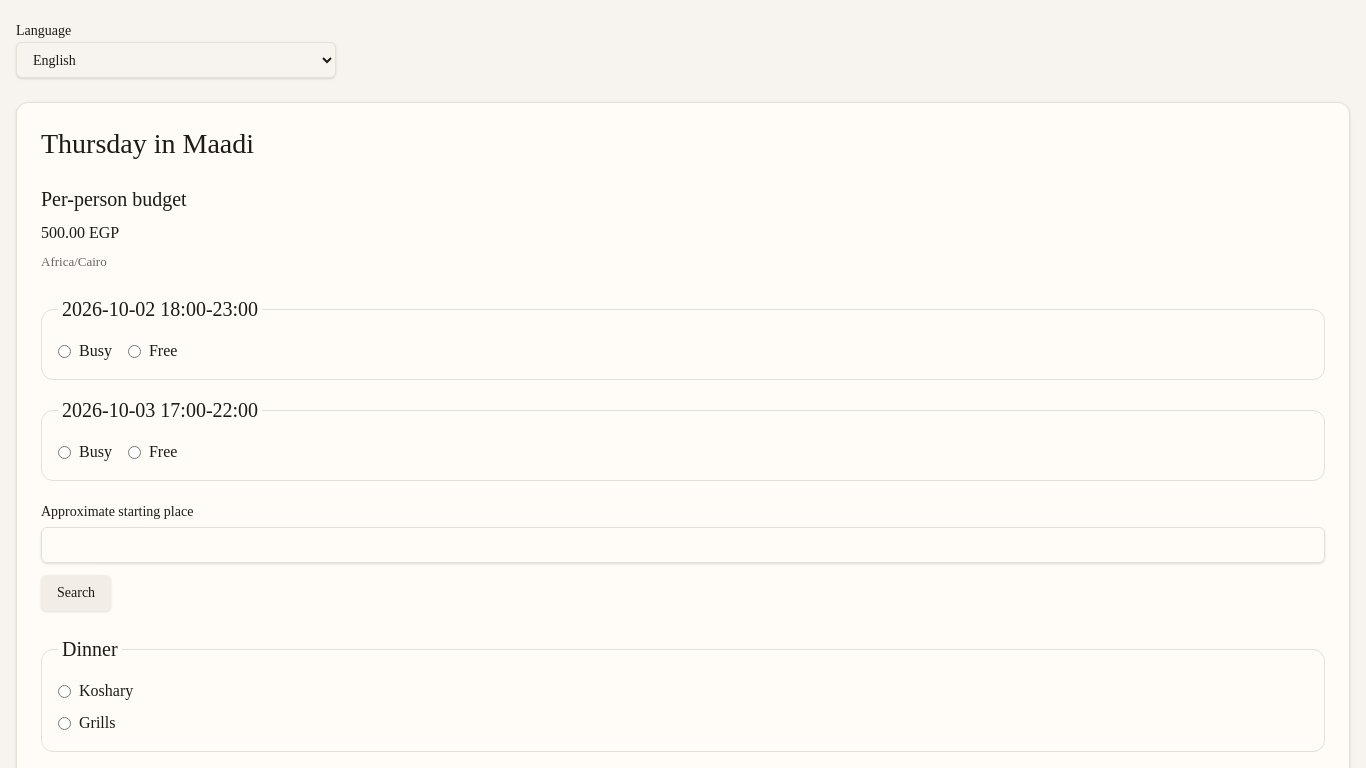
Test: ResponseForm › a save that misses a valid window, a start, or one label on a step stays incomplete and identifies those fields
Expected: the search field labelled "Approximate starting place" is shown, [41,527,1325,563]
Step 1. Click the radio button labelled "Free" below "2026-10-02" → (134, 351), box [128,344,141,358]
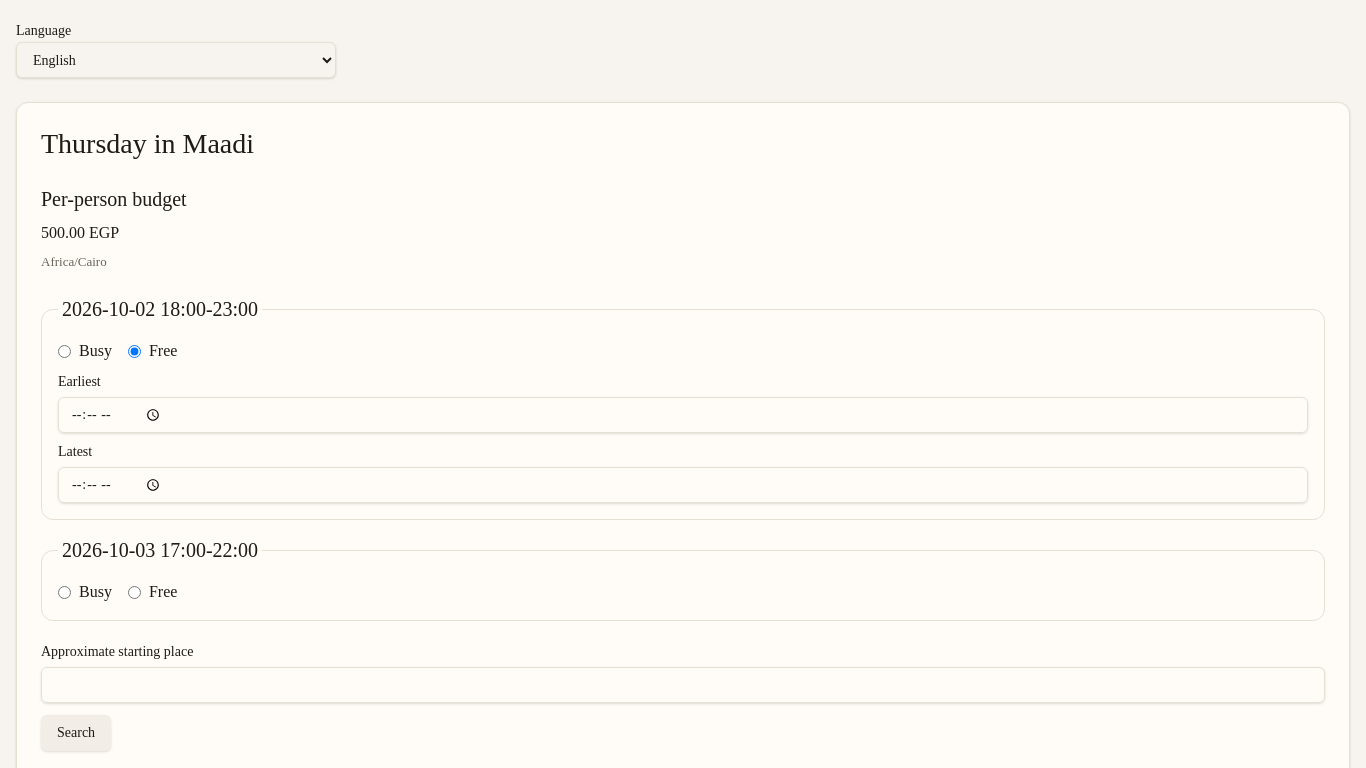
Step 2. Type "17:00" into the time field labelled "Earliest" → (683, 415), box [58,397,1308,433]
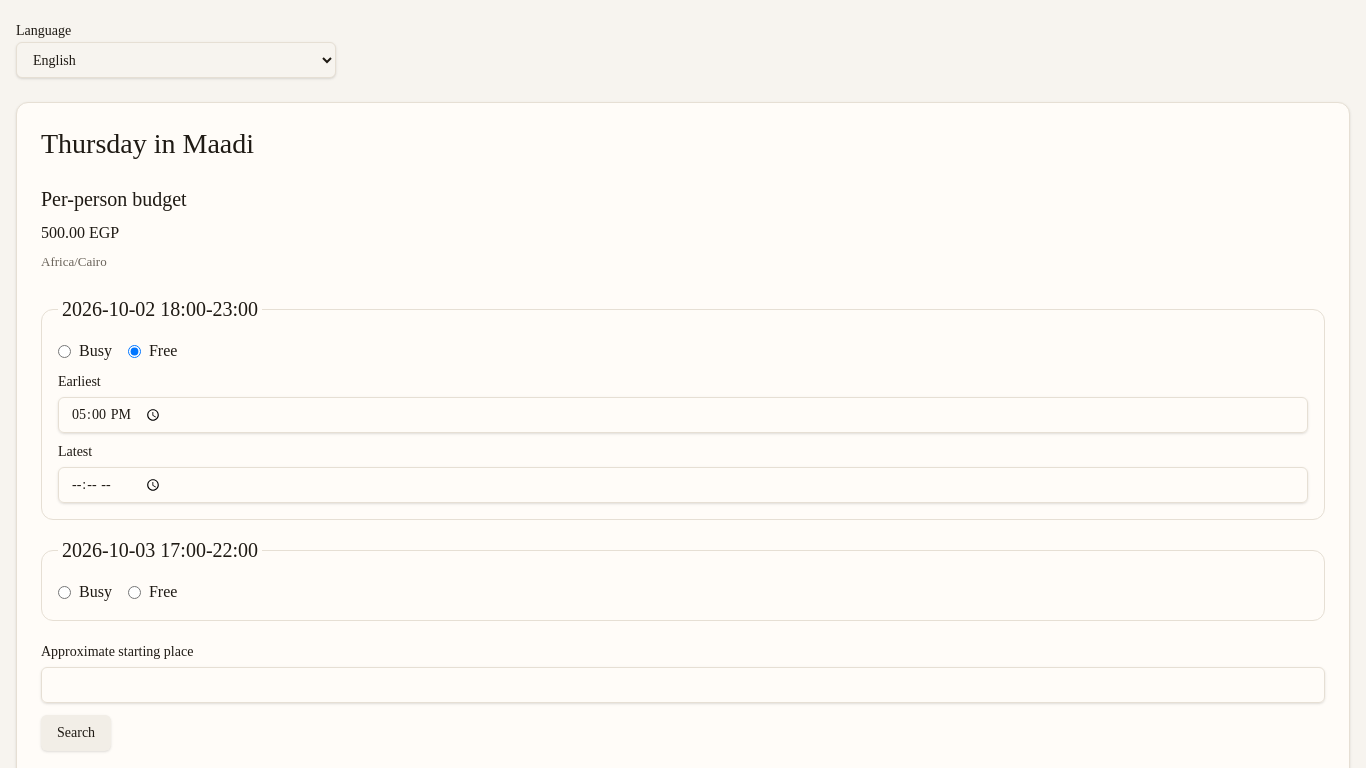
Step 3. Type "21:00" into the time field labelled "Latest" → (683, 485), box [58,467,1308,503]
(page scrolled)
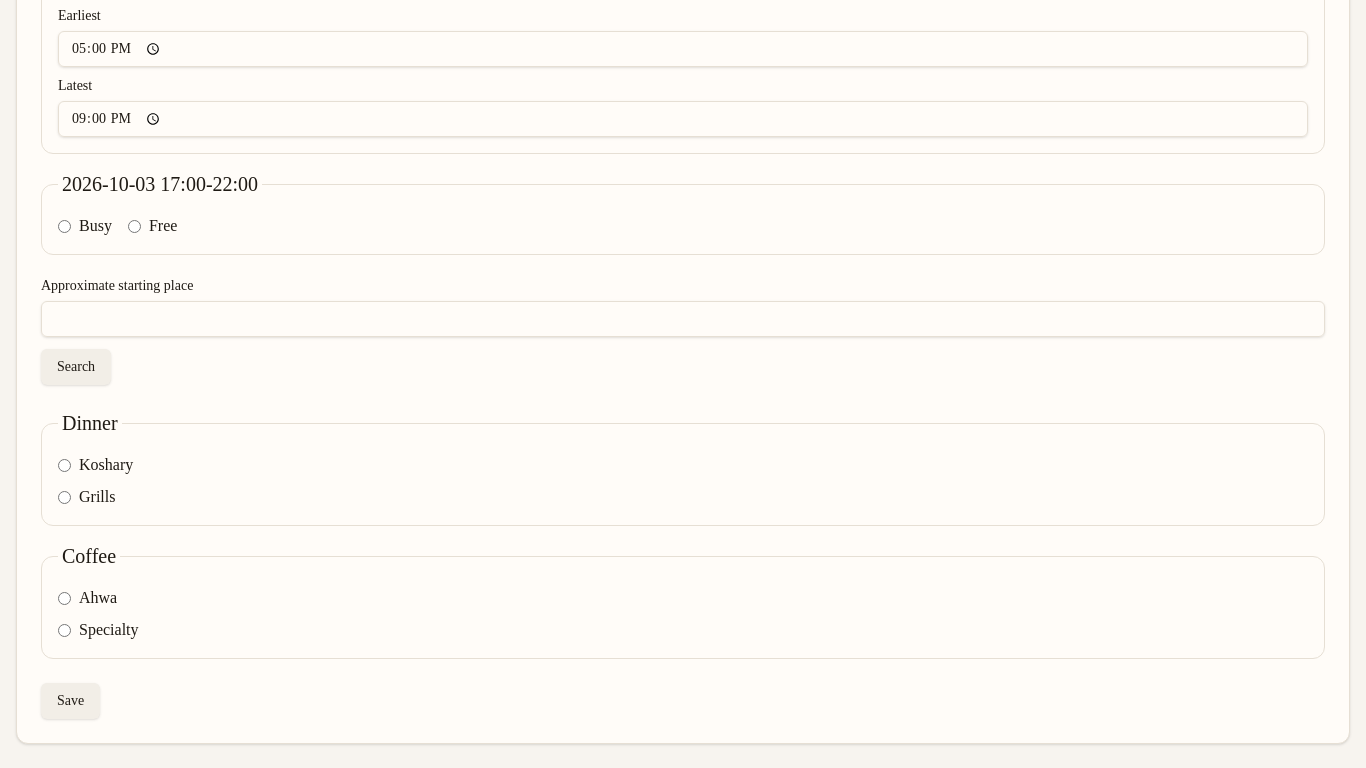
Step 4. Click the button "Save" → (71, 701), box [41,683,100,719]
(page scrolled)
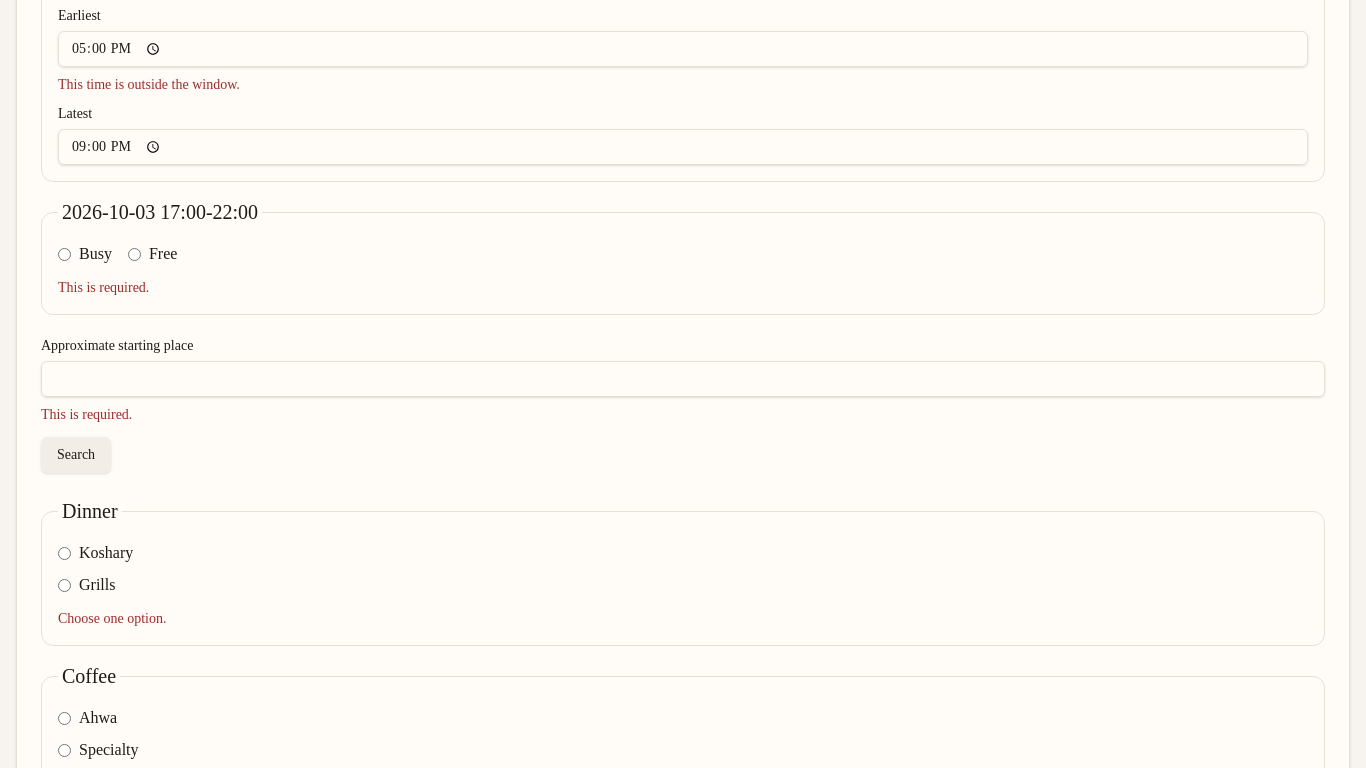
Expected: the text "This time is outside the window." is shown, [58,77,240,92]
